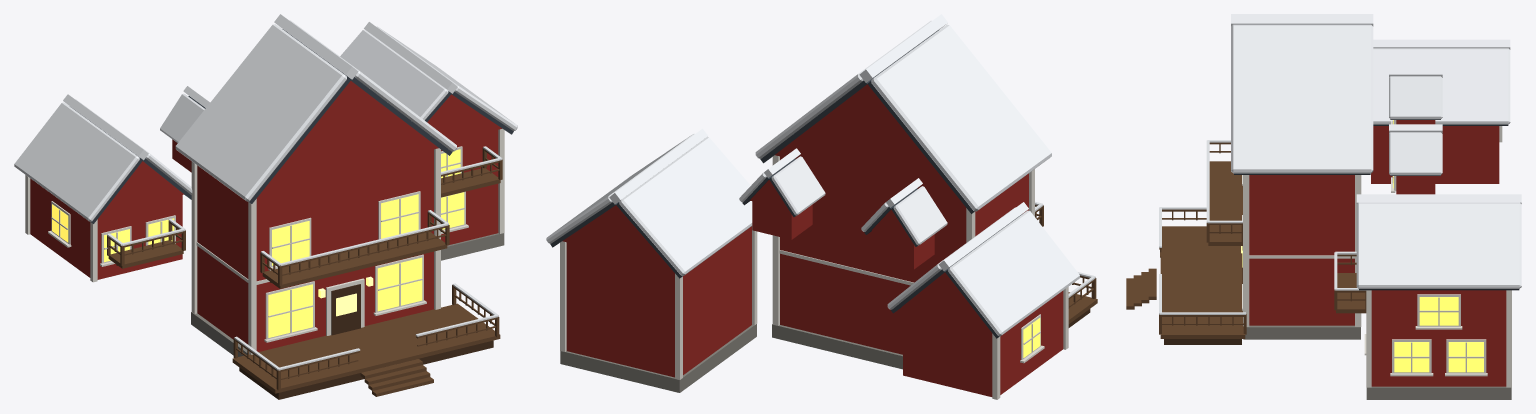
Rendered from lodge-annex-2.glb.
3 views of the same model, side by side, from view 1: azimuth 30°, elevation 25°; view 2: azimuth 150°, elevation 25°; view 3: azimuth 270°, elevation 25° (orthographic). The views are drawn at different scales.
Parts seen in each view (by area): view 1: lodge-annex-2; view 2: lodge-annex-2; view 3: lodge-annex-2.
Boxes of the visible parts, x1,y1,x2,y2 form: lodge-annex-2: [14, 14, 517, 399]; lodge-annex-2: [546, 14, 1097, 399]; lodge-annex-2: [1126, 14, 1521, 399].
Size of the model in its own units: 25.07 by 15.95 by 20.28.
